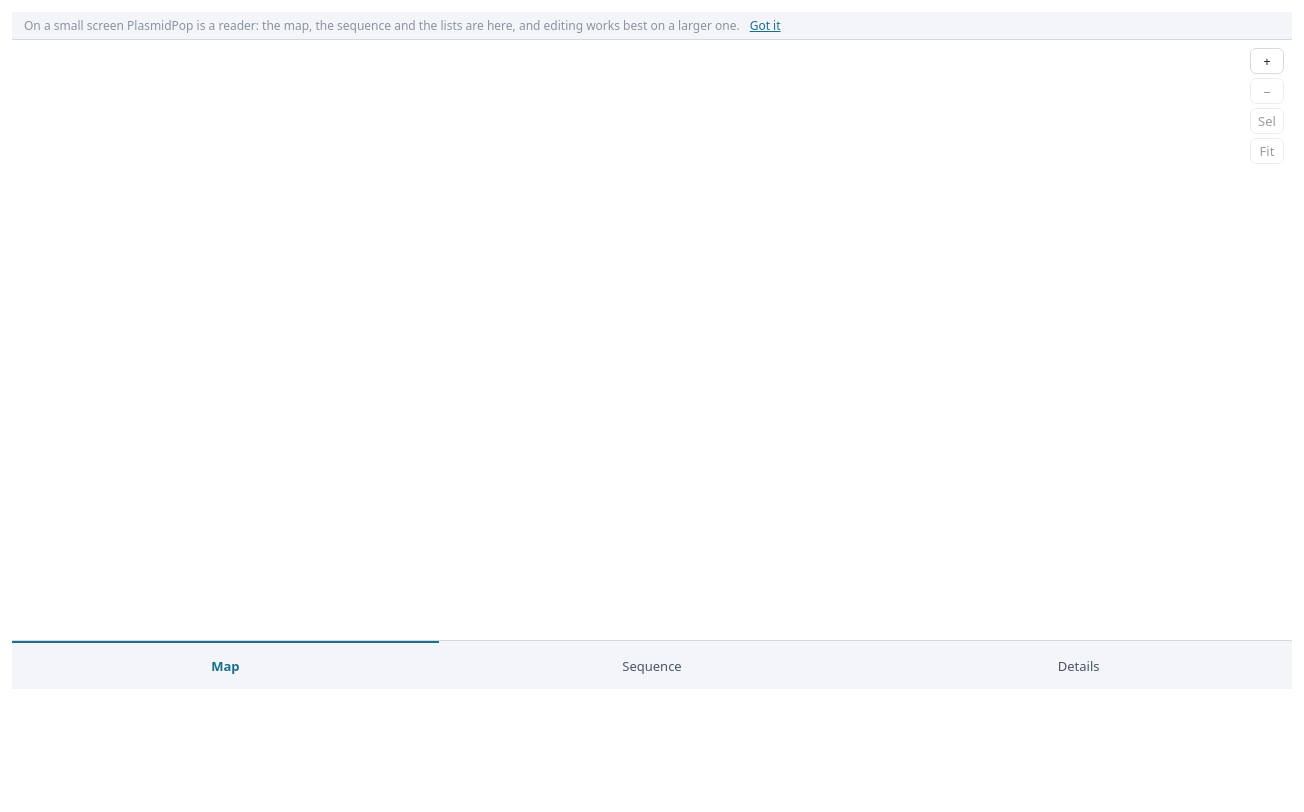
Test: PhoneShell › says once that this is the reader
expect the message shows "reader": met, box x1=24 y1=17 x2=740 y2=34
Click the button "Got it" at (765, 26), box x1=750 y1=17 x2=781 y2=34
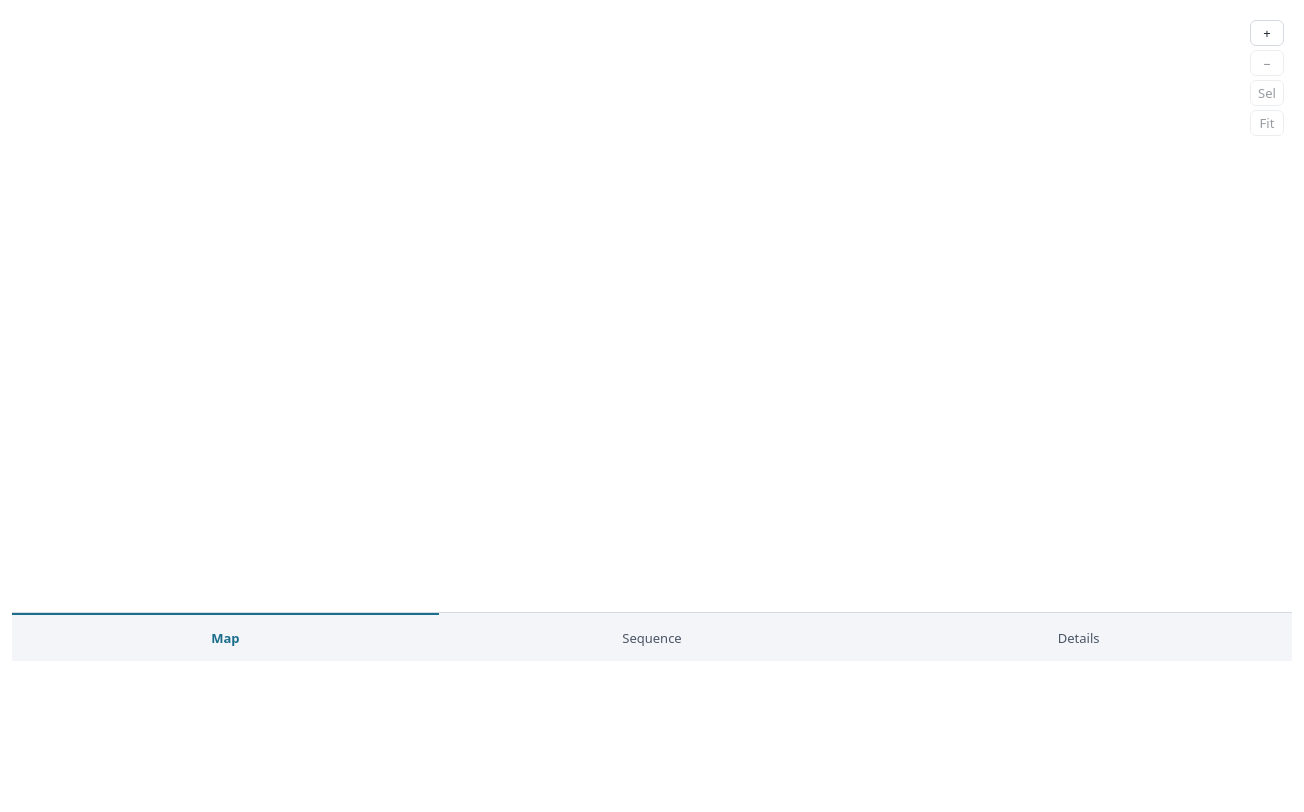
expect the message is gone: met
